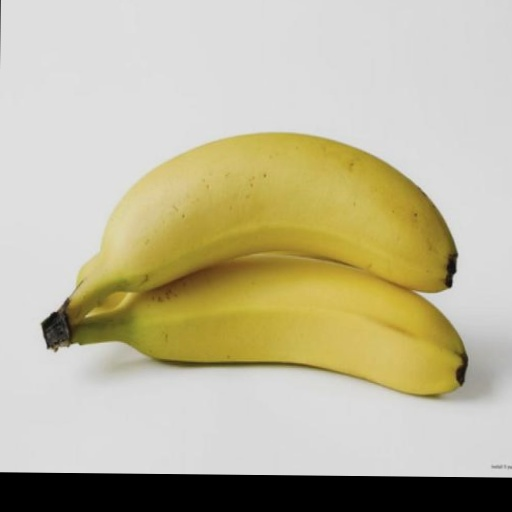fruit: (59, 133, 456, 325), (70, 255, 466, 394)
